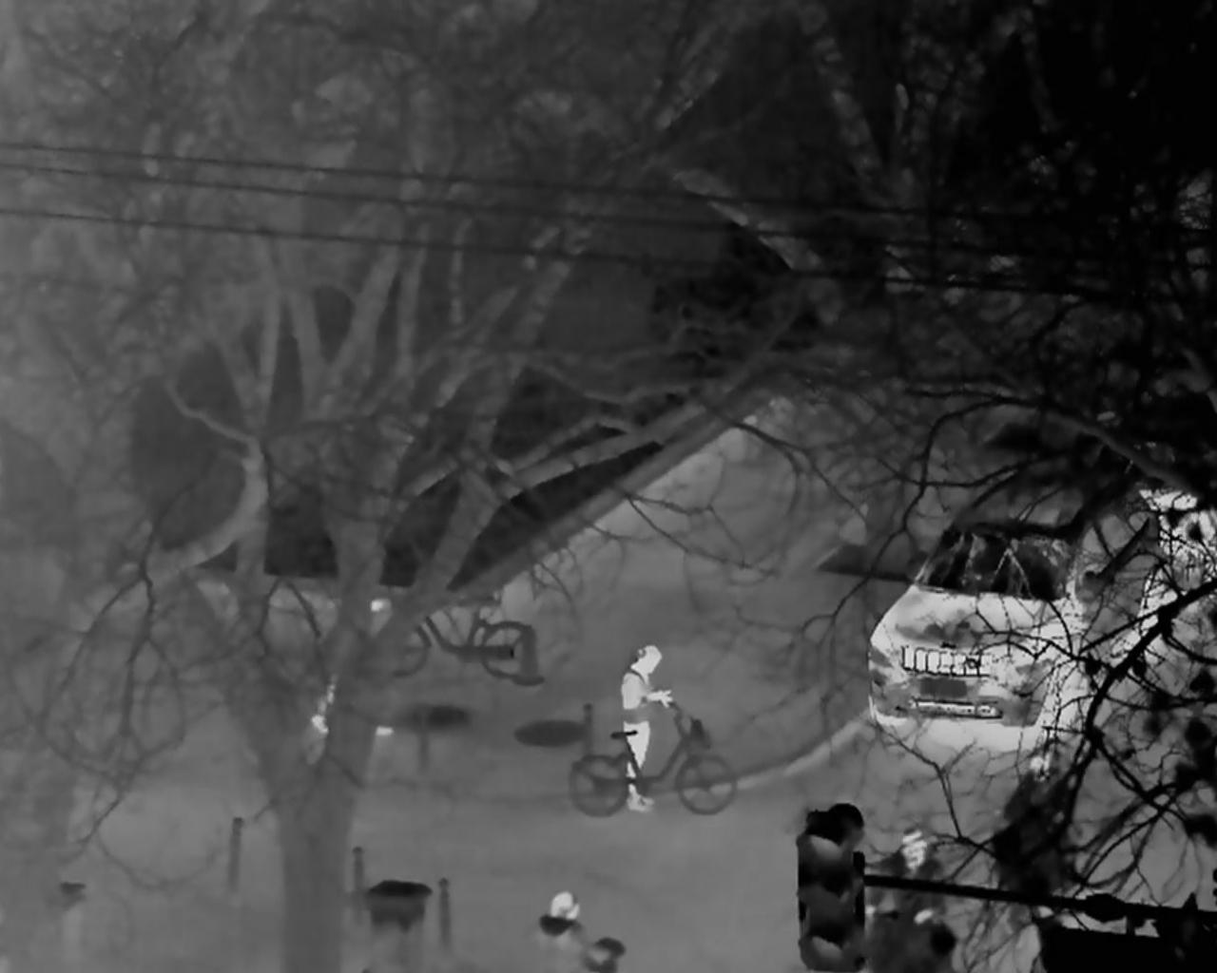person: (619, 643, 674, 811), (535, 890, 612, 973)
